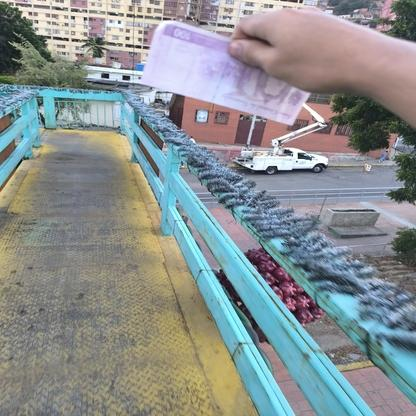one_hundred-back-vef: (139, 20, 310, 126)
